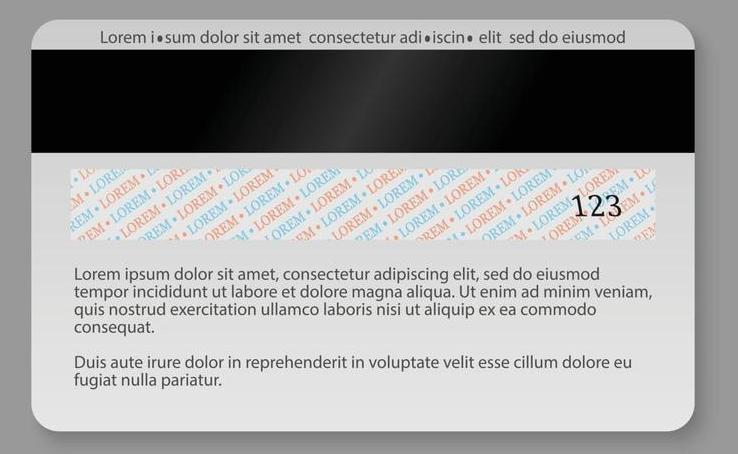payment_card: (29, 19, 696, 433)
